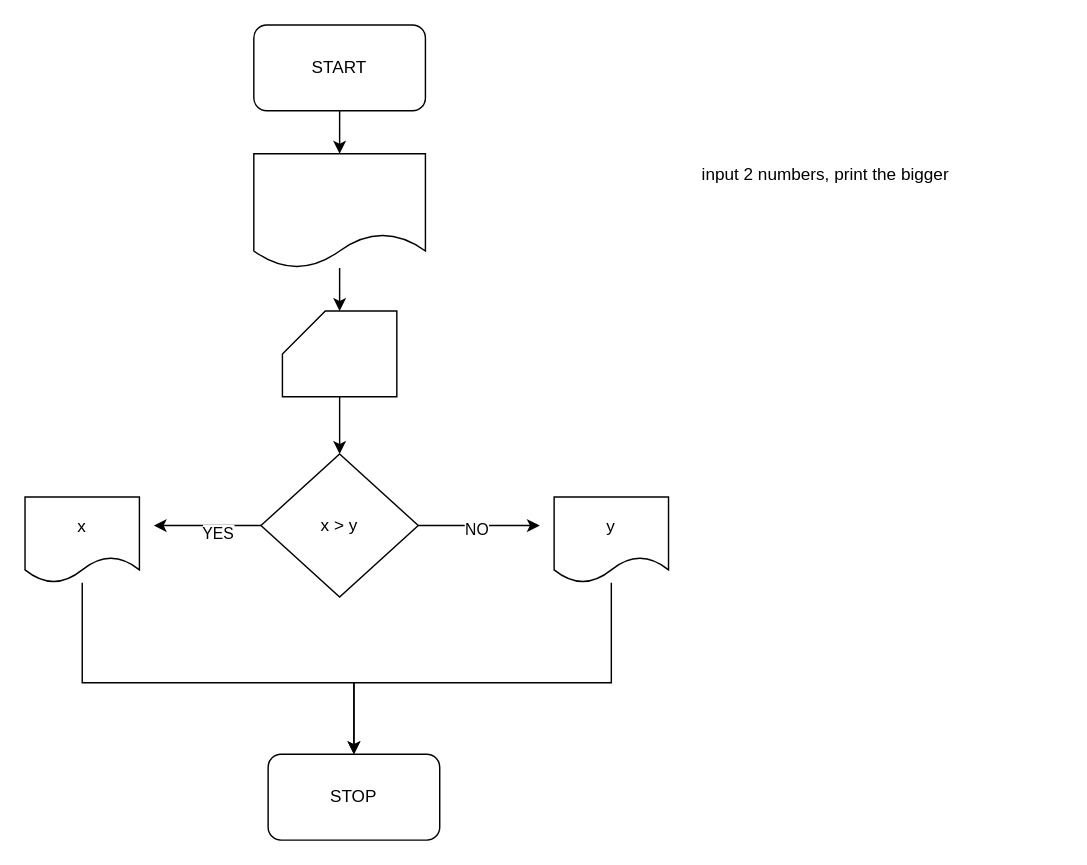
Image size: 1087x865. Some labels were removed from this diagram. Each missing label, with the centre of its shape:
"Please enter 2 numbers": point 338,210
x, y: point 339,353
